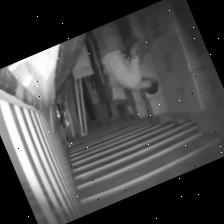person: (92, 22, 157, 93)
